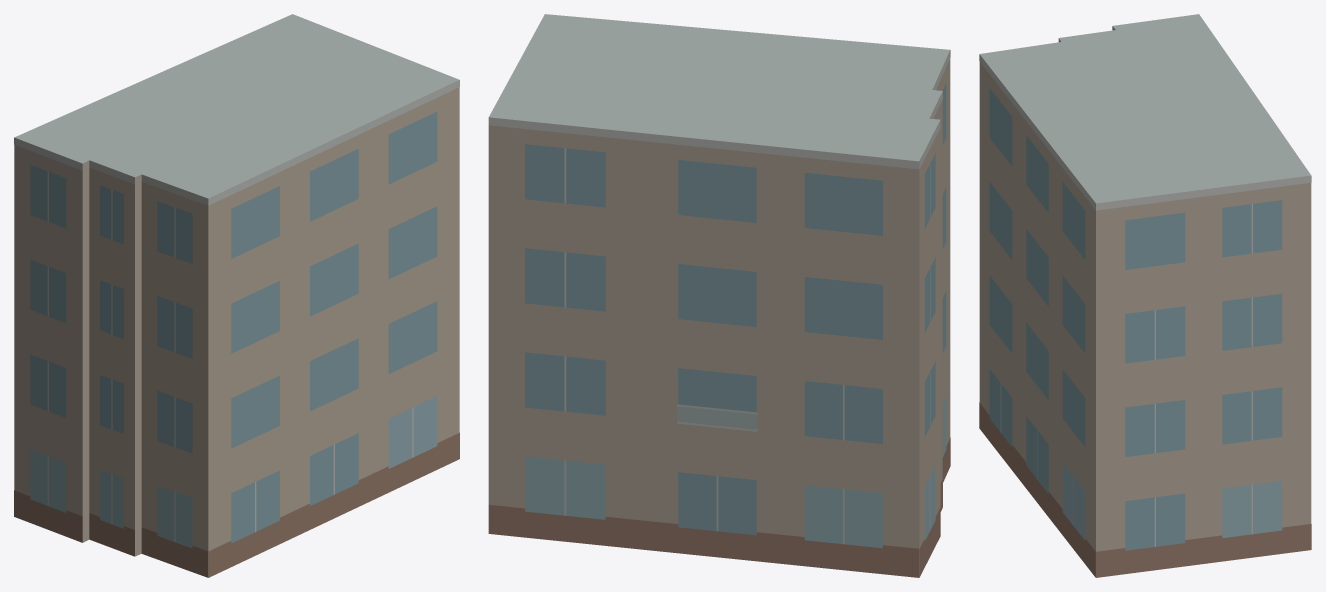
The model's file is survey-upis-33015463.glb.
The picture shows the model from 3 angles, left to right: view 1: azimuth 30°, elevation 25°; view 2: azimuth 150°, elevation 25°; view 3: azimuth 270°, elevation 25°; orthographic projection. The views are drawn at different scales.
Parts seen in each view (by area): view 1: survey-upis-33015463.tmp; view 2: survey-upis-33015463.tmp; view 3: survey-upis-33015463.tmp.
Boxes of the visible parts, box(x1,y1,x2,y2) form: survey-upis-33015463.tmp: box(14, 14, 459, 577); survey-upis-33015463.tmp: box(488, 14, 950, 577); survey-upis-33015463.tmp: box(979, 14, 1311, 577).
Bounding box in the file's own units: 13.9 × 12.8 × 10.3.
